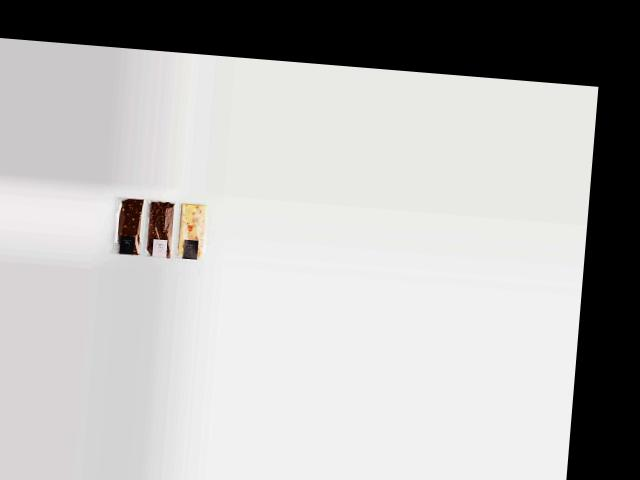chocolate: (107, 191, 146, 254)
